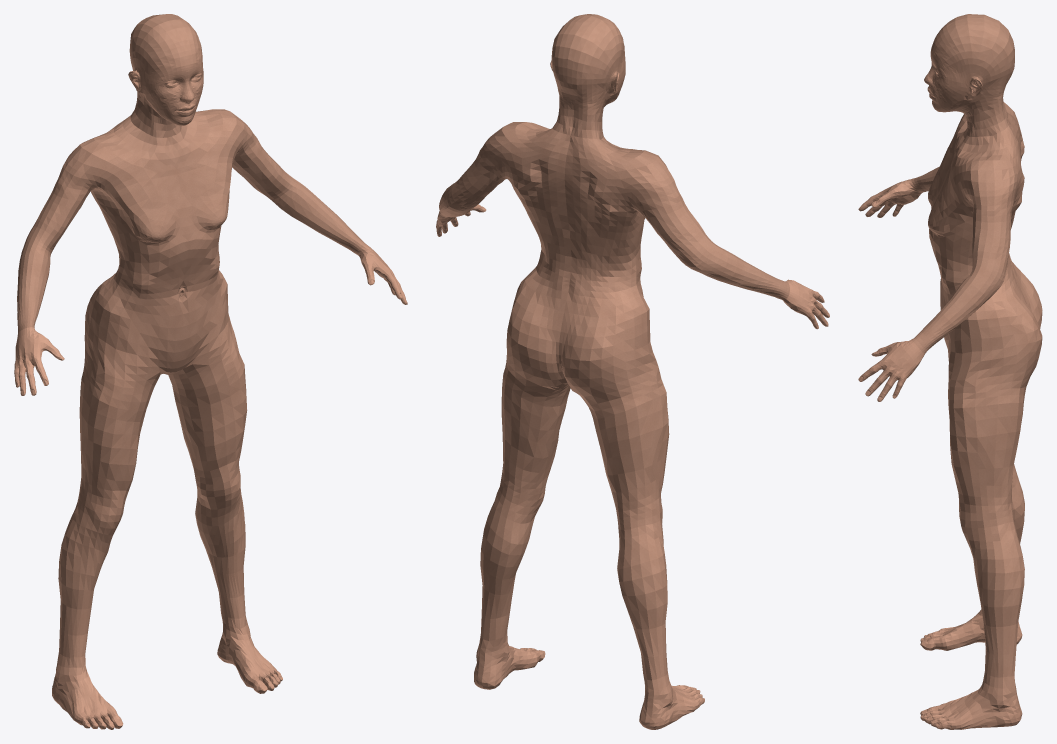
File: female.glb
The picture shows the model from 3 angles, left to right: view 1: azimuth 30°, elevation 25°; view 2: azimuth 150°, elevation 25°; view 3: azimuth 270°, elevation 25°; orthographic projection.
Visible parts, largest first — view 1: female_body; view 2: female_body; view 3: female_body.
Boxes of the visible parts, x1,y1,x2,y2 form: female_body: (14,14,407,729); female_body: (436,14,829,729); female_body: (858,14,1042,729).
Size of the model in its own units: 4.17 by 7 by 1.75.
1 material, 1 textured.
